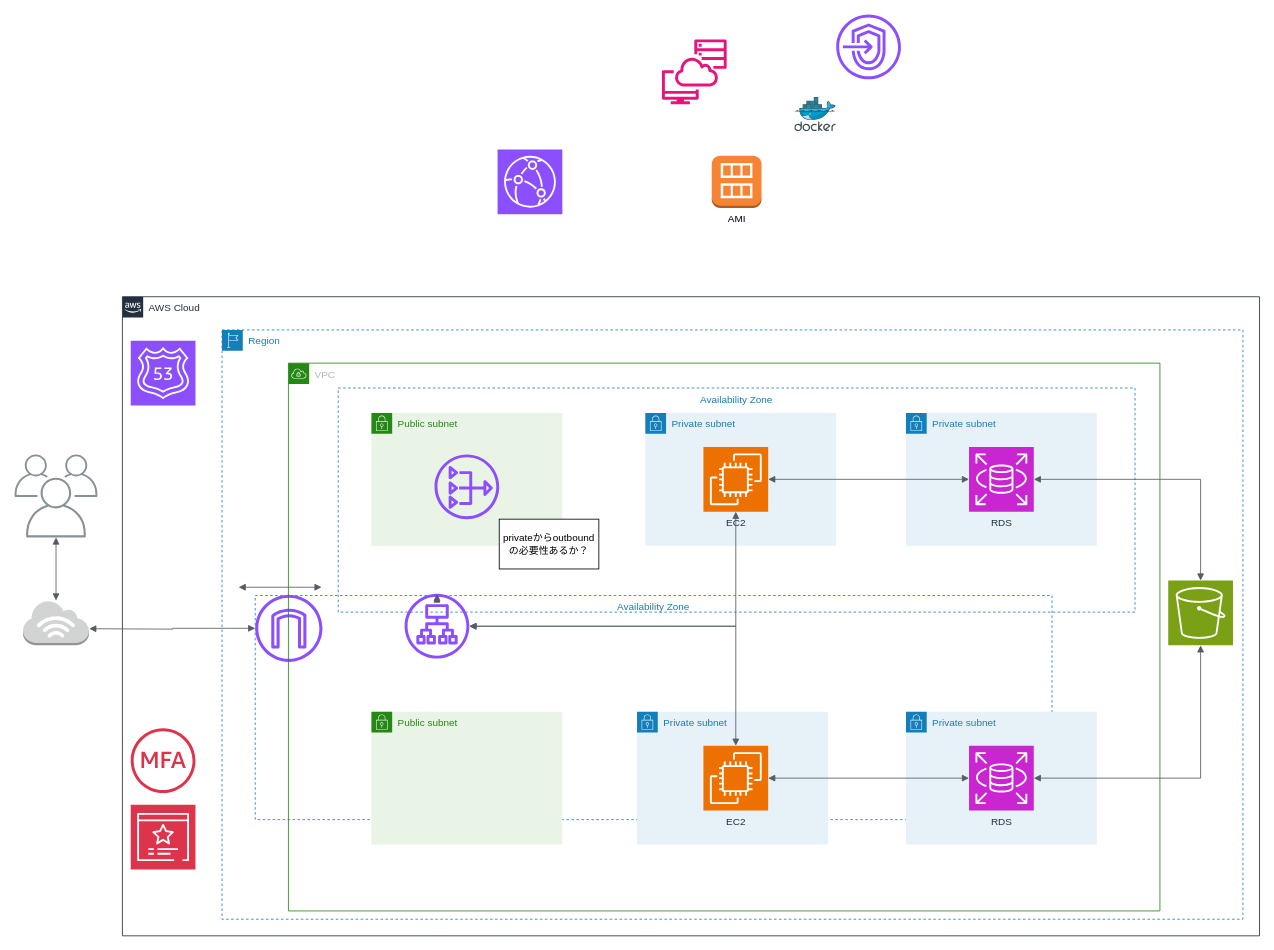
This 1274x950 diagram has some shape labels left out. The shapes that lost their labels are listed below. From the top down, each one's centre as x and y in pixels, then its label:
At pixel 694 71: "SSM".
At pixel 529 181: "CloudFront".
At pixel 162 372: "Route 53".
At pixel 55 495: "users".
At pixel 466 486: "NAT".
At pixel 288 628: "IGW".
At pixel 436 625: "ALB".
At pixel 1200 612: "S3".
At pixel 162 836: "ACM".
